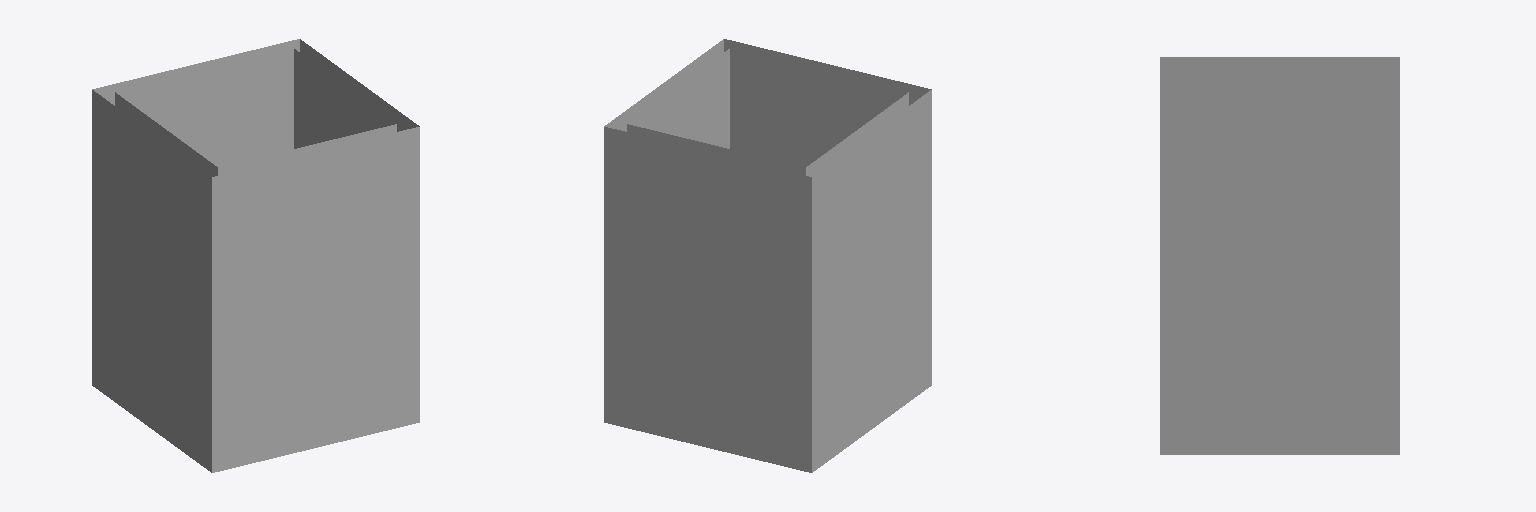
Rendered from ActorLowerLeftArm.obj.
3 renders of one model, left to right at view 1: azimuth 30°, elevation 25°; view 2: azimuth 150°, elevation 25°; view 3: azimuth 270°, elevation 25°, orthographic.
Visible parts, largest first — view 1: ActorLowerLeftArm_Cube.001; view 2: ActorLowerLeftArm_Cube.001; view 3: ActorLowerLeftArm_Cube.001.
Boxes of the visible parts, <box> form: ActorLowerLeftArm_Cube.001: <box>92,39,419,472</box>; ActorLowerLeftArm_Cube.001: <box>604,39,931,472</box>; ActorLowerLeftArm_Cube.001: <box>1160,57,1399,454</box>.
Bounding box in the file's own units: 0.29 × 0.395 × 0.29.